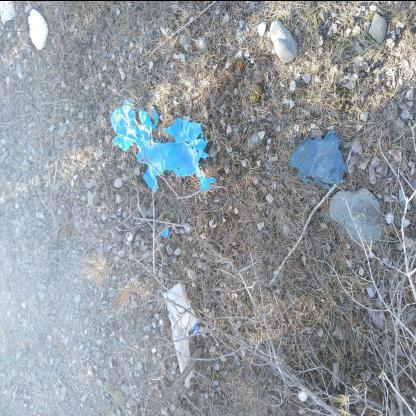kopuk: (30, 9, 50, 51)
plastik: (111, 98, 218, 194), (291, 131, 349, 192)
